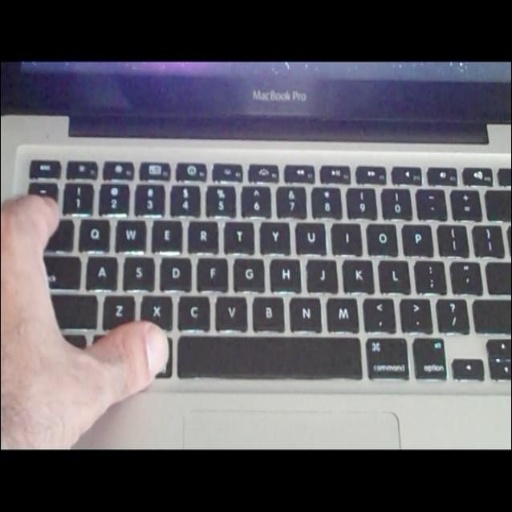hand: (11, 223, 168, 455)
